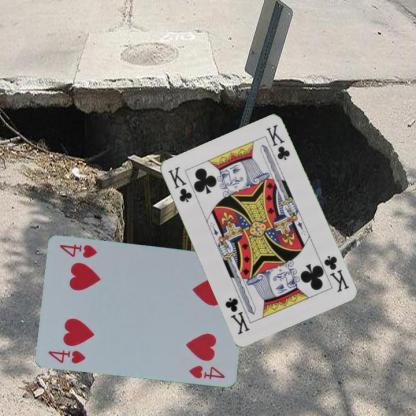4h: (46, 346, 87, 364)
Kc: (321, 252, 350, 294), (165, 163, 193, 204)
